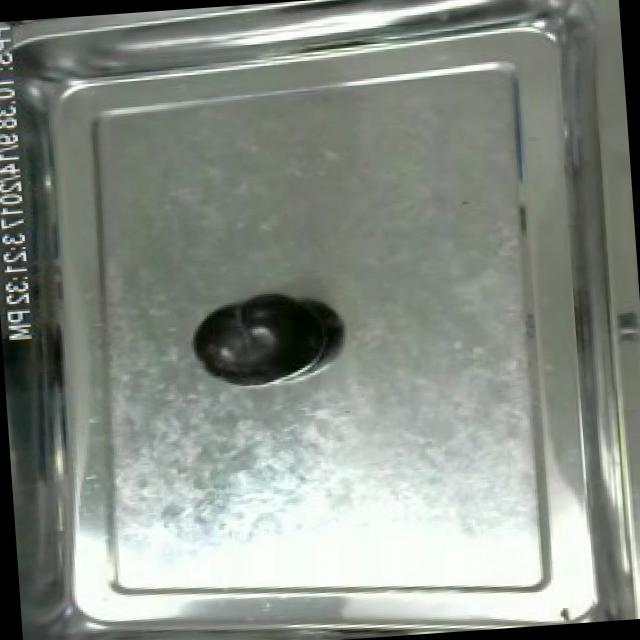Fruit: (182, 284, 336, 388)
